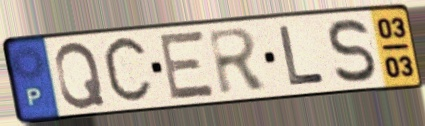C: (100, 32, 156, 109)
E: (158, 28, 218, 103)
L: (277, 23, 328, 89)
Q: (52, 40, 108, 111)
R: (205, 25, 272, 98)
S: (326, 16, 379, 86)
